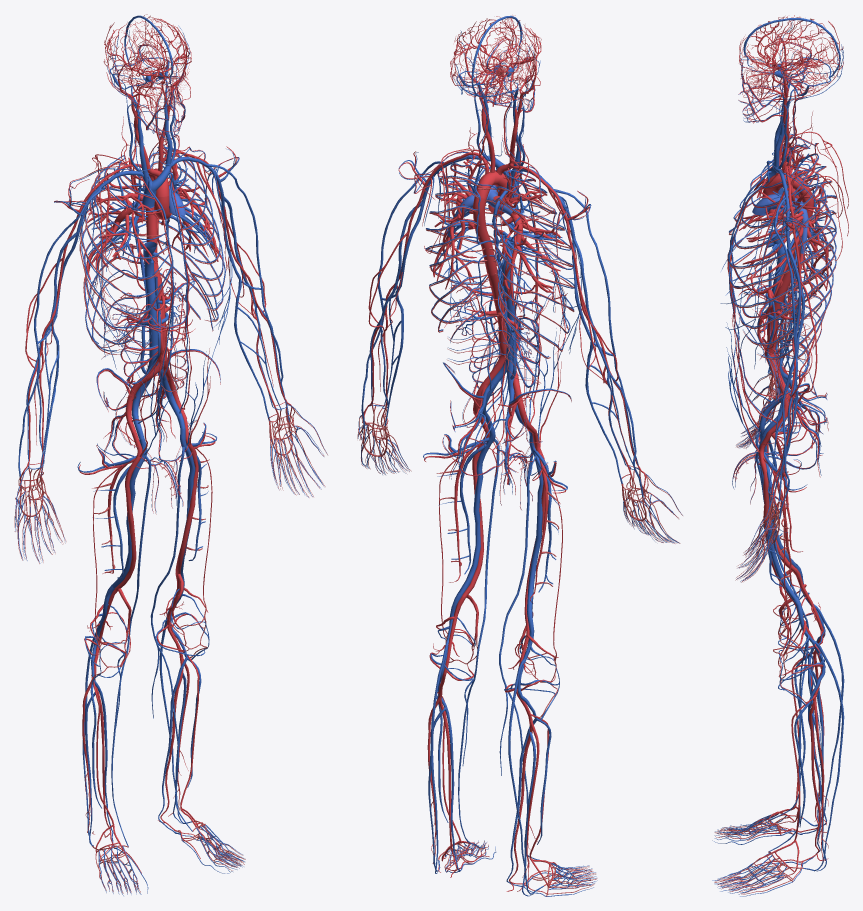
Rendered from vessels.glb.
3 renders of one model, left to right at view 1: azimuth 30°, elevation 25°; view 2: azimuth 150°, elevation 25°; view 3: azimuth 270°, elevation 25°, orthographic. The views are drawn at different scales.
Visible parts, largest first — view 1: right-superior-intercostal-vein, posterior-intercostal-arteries-right, left-superior-intercostal-vein, great-saphenous-vein-left, great-saphenous-vein-right, posterior-intercostal-arteries-left, femoral-artery-right, cephalic-vein-right, femoral-artery-left, cephalic-vein-left, basilic-vein-left, femoral-vein-right; view 2: posterior-intercostal-arteries-right, right-superior-intercostal-vein, left-superior-intercostal-vein, posterior-intercostal-arteries-left, great-saphenous-vein-left, great-saphenous-vein-right, femoral-vein-left, femoral-vein-right, thoracic-aorta, cephalic-vein-right, basilic-vein-right, femoral-artery-left (+4 smaller); view 3: left-superior-intercostal-vein, posterior-intercostal-arteries-left, right-superior-intercostal-vein, cephalic-vein-left, small-saphenous-vein-left, posterior-intercostal-arteries-right, femoral-artery-left, great-saphenous-vein-right, abdominal-aorta, small-saphenous-vein-right, great-saphenous-vein-left, femoral-vein-left (+21 smaller).
Part boxes in pixels (x1,y1,x2,y2): right-superior-intercostal-vein: [81, 155, 171, 351]; posterior-intercostal-arteries-right: [79, 163, 169, 354]; left-superior-intercostal-vein: [144, 147, 225, 330]; great-saphenous-vein-left: [150, 446, 192, 831]; great-saphenous-vein-right: [111, 456, 151, 846]; posterior-intercostal-arteries-left: [149, 153, 225, 331]; femoral-artery-right: [115, 431, 142, 590]; cephalic-vein-right: [18, 187, 101, 488]; femoral-artery-left: [175, 419, 198, 575]; cephalic-vein-left: [202, 162, 289, 422]; basilic-vein-left: [221, 197, 270, 420]; femoral-vein-right: [112, 438, 147, 587]; posterior-intercostal-arteries-right: [478, 187, 574, 358]; right-superior-intercostal-vein: [492, 170, 574, 357]; left-superior-intercostal-vein: [425, 156, 513, 331]; posterior-intercostal-arteries-left: [425, 177, 506, 332]; great-saphenous-vein-left: [458, 439, 499, 844]; great-saphenous-vein-right: [499, 451, 539, 859]; femoral-vein-left: [459, 424, 495, 594]; femoral-vein-right: [527, 435, 543, 609]; thoracic-aorta: [472, 197, 497, 275]; cephalic-vein-right: [554, 189, 643, 496]; basilic-vein-right: [572, 238, 622, 483]; femoral-artery-left: [462, 419, 489, 598]; left-superior-intercostal-vein: [728, 163, 836, 358]; posterior-intercostal-arteries-left: [729, 175, 836, 359]; right-superior-intercostal-vein: [729, 144, 836, 304]; cephalic-vein-left: [774, 197, 796, 518]; small-saphenous-vein-left: [803, 640, 844, 871]; posterior-intercostal-arteries-right: [729, 153, 836, 308]; femoral-artery-left: [759, 431, 793, 601]; great-saphenous-vein-right: [755, 432, 820, 820]; abdominal-aorta: [764, 266, 793, 354]; small-saphenous-vein-right: [803, 604, 844, 826]; great-saphenous-vein-left: [755, 452, 820, 851]; femoral-vein-left: [758, 434, 797, 600].
Bounding box in the file's own units: 0.664 × 1.7 × 0.249.
